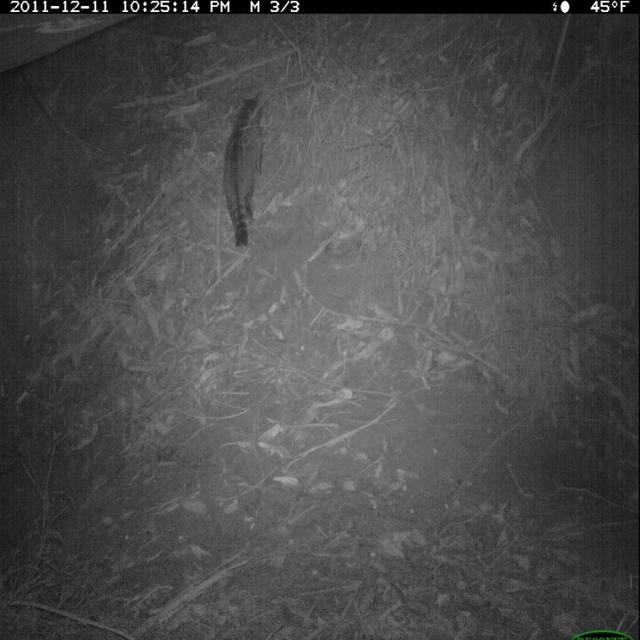cat: (219, 88, 274, 254)
